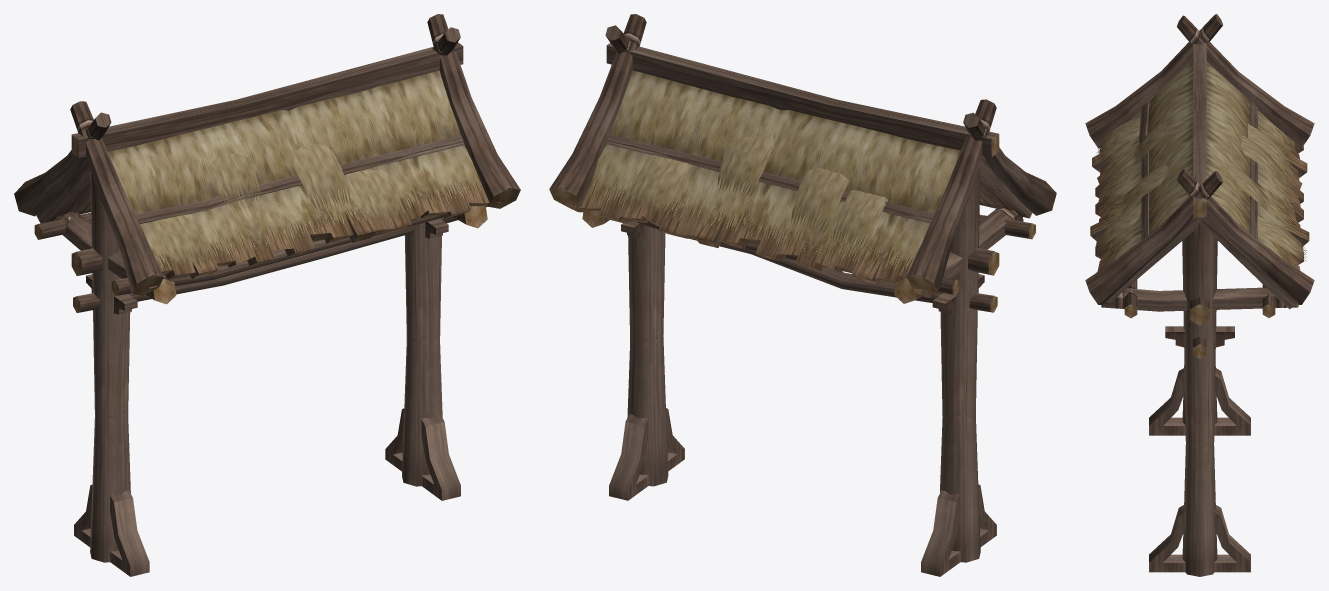
File: handan_field_b_r04.fbx
3 renders of one model, left to right at view 1: azimuth 30°, elevation 25°; view 2: azimuth 150°, elevation 25°; view 3: azimuth 270°, elevation 25°, orthographic. The views are drawn at different scales.
Visible parts, largest first — view 1: handan_field_b_r04; view 2: handan_field_b_r04; view 3: handan_field_b_r04.
Boxes of the visible parts, x1,y1,x2,y2 form: handan_field_b_r04: (14, 14, 520, 576); handan_field_b_r04: (549, 14, 1056, 576); handan_field_b_r04: (1085, 14, 1314, 576).
Size of the model in its own units: 558 by 627 by 320.
